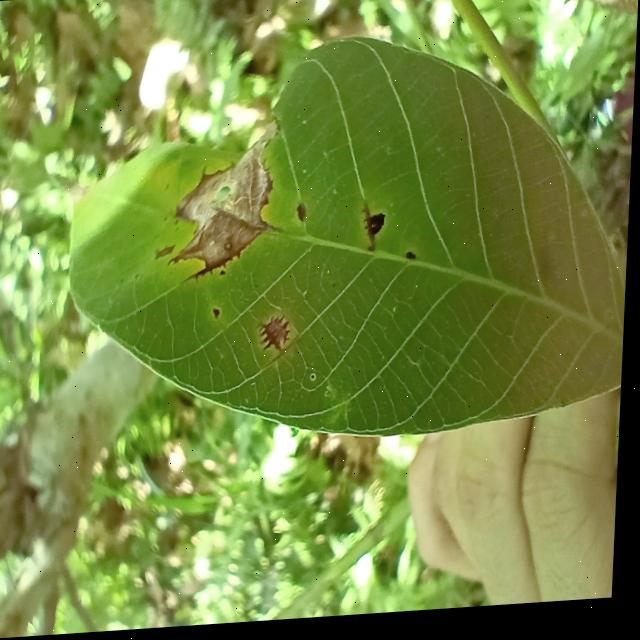Colletotrichum: (315, 378, 319, 382)
Corynespora: (189, 247, 254, 284), (259, 317, 295, 356), (363, 204, 389, 257)
Leaf-Blight: (171, 124, 280, 272)
